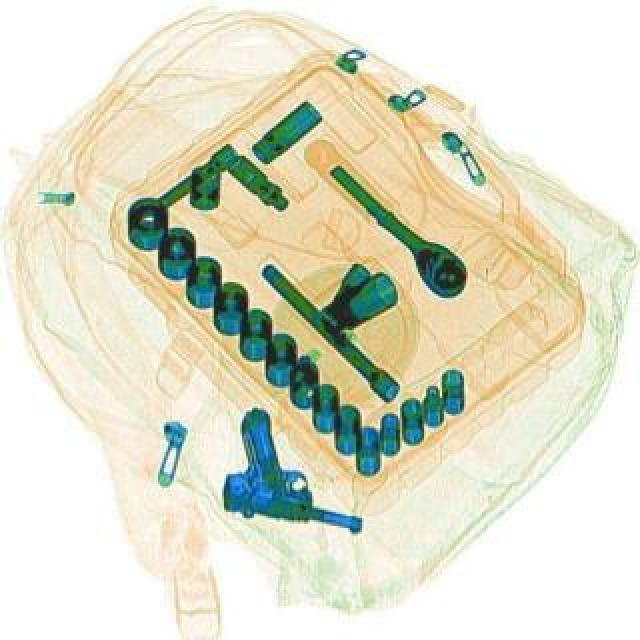gun: (214, 406, 386, 548)
